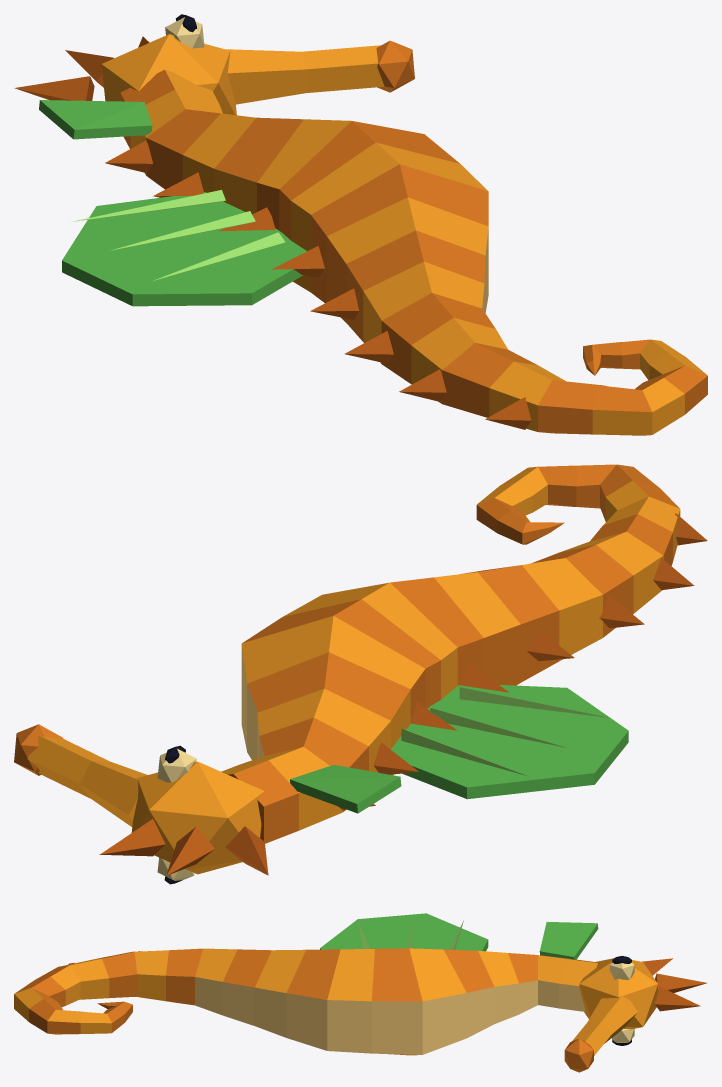
Rendered from gardener-seahorse.glb.
The picture shows the model from 3 angles, top to bottom: view 1: azimuth 30°, elevation 25°; view 2: azimuth 150°, elevation 25°; view 3: azimuth 270°, elevation 25°; orthographic projection. The views are drawn at different scales.
Parts seen in each view (by area): view 1: gardener_seahorse; view 2: gardener_seahorse; view 3: gardener_seahorse.
Part boxes in pixels (x1=…): gardener_seahorse: x1=14, y1=14, x2=707, y2=435; gardener_seahorse: x1=14, y1=464, x2=707, y2=884; gardener_seahorse: x1=14, y1=913, x2=706, y2=1072.
Size of the model in its own units: 2.06 by 0.688 by 4.04.
